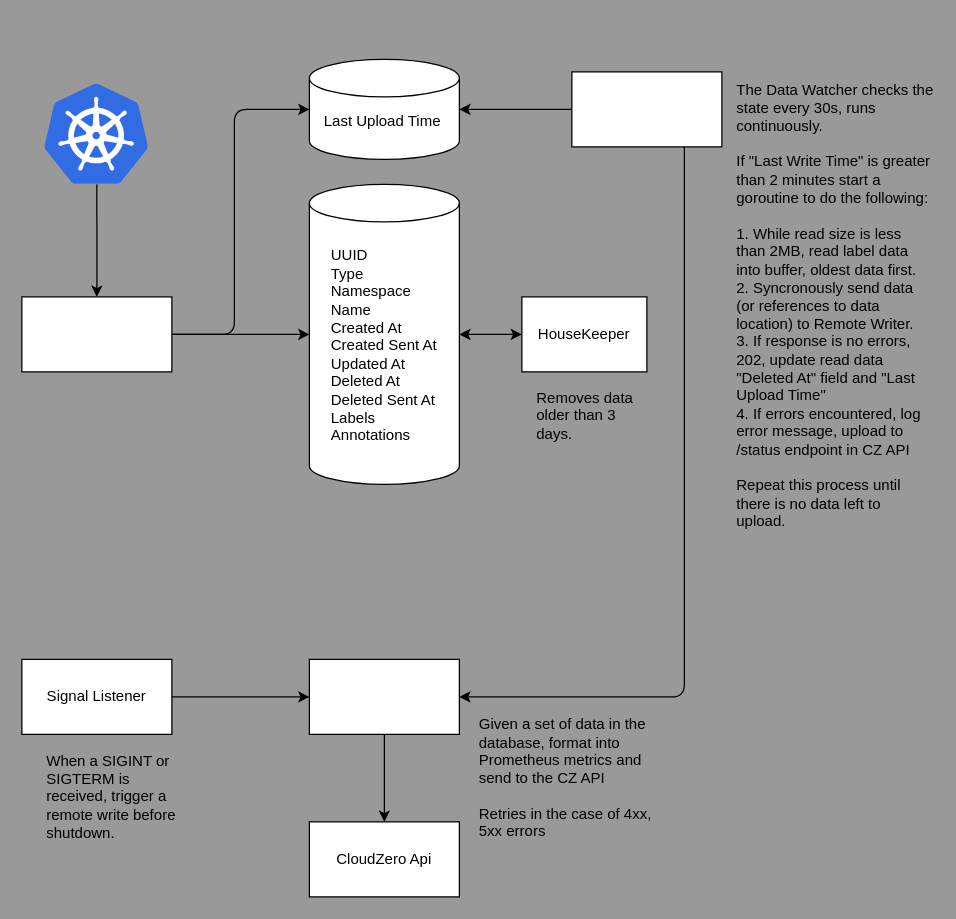
Image size: 956x919. Some labels were removed from this diagram. Here are the shapes that lost their labels. From the top down, the centre of each, then its label:
point 646,109: Data Watcher
point 96,334: Writer
point 383,696: Remote Writer
